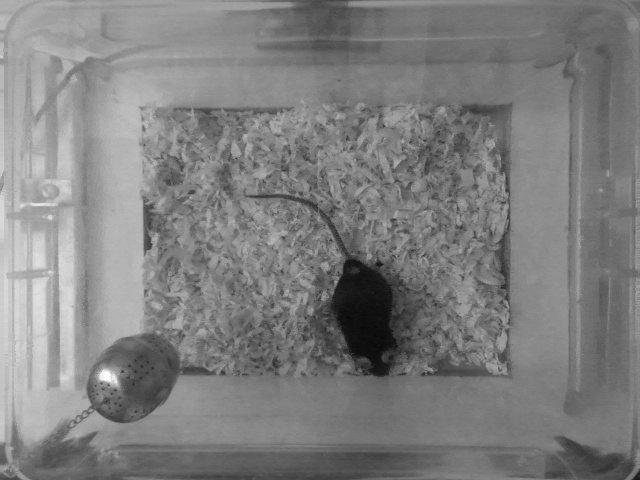mice: (244, 189, 396, 378)
